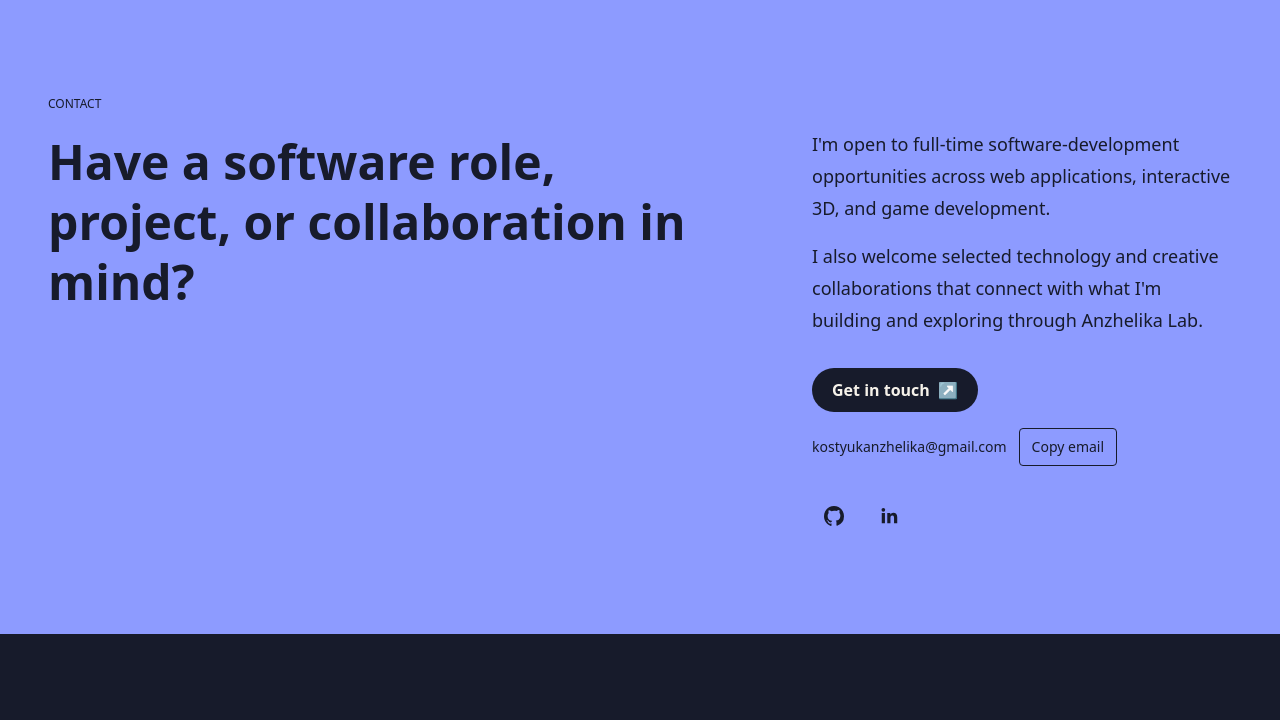
it: Contact › shows a helper message when the email app handoff is attempted
Click the link "Get in touch ↗".
click(895, 390)  # box [812, 368, 978, 412]
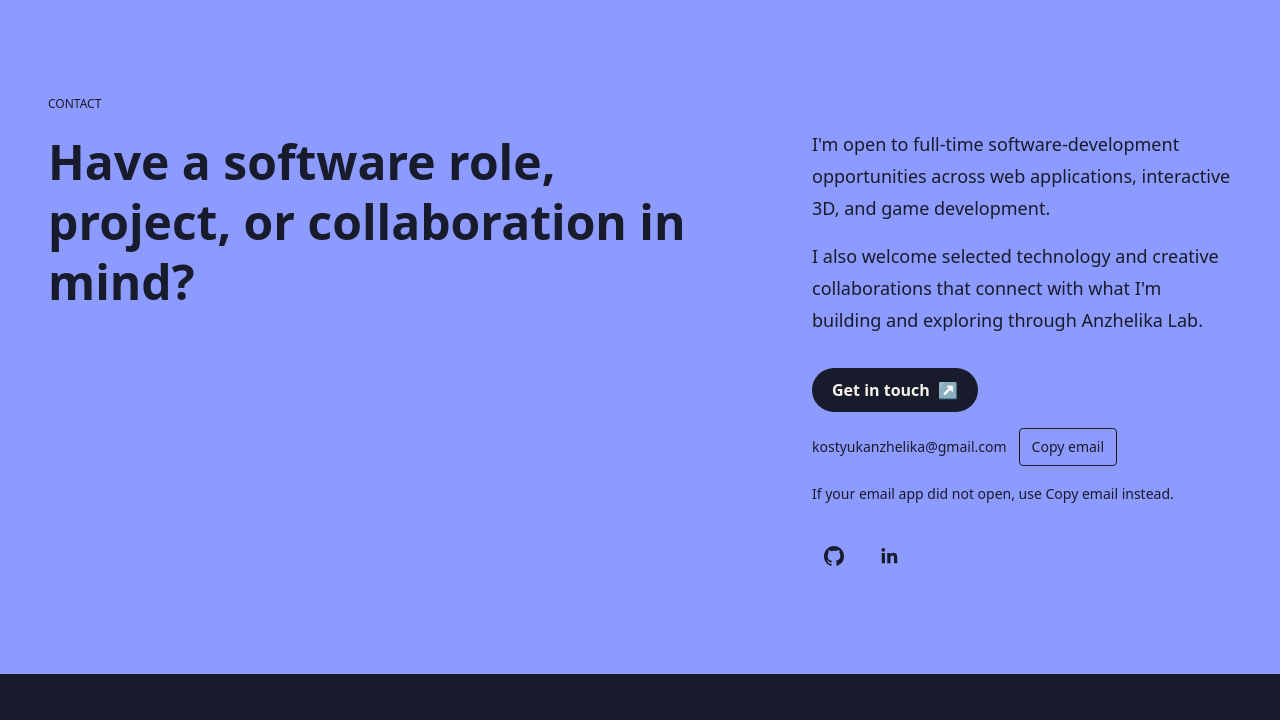
Expected: the text "If your email app did not open, use Copy email instead." is shown, [812, 482, 1196, 506]
